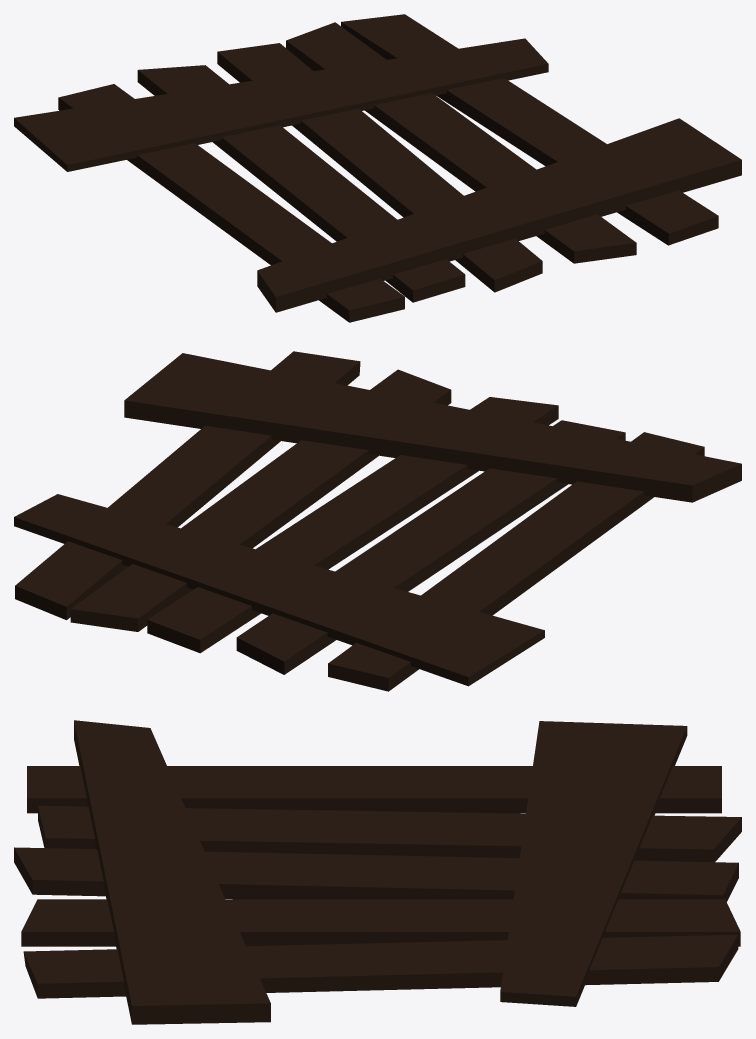
Rendered from SM_WindowBarricade.fbx.
3 views of the same model, one above another, from view 1: azimuth 30°, elevation 25°; view 2: azimuth 150°, elevation 25°; view 3: azimuth 270°, elevation 25° (orthographic). The views are drawn at different scales.
Visible parts, largest first — view 1: windowwood; view 2: windowwood; view 3: windowwood.
Boxes of the visible parts, left/top/right/bottom form: windowwood: left=14, top=14, right=741, bottom=322; windowwood: left=14, top=351, right=741, bottom=691; windowwood: left=14, top=720, right=741, bottom=1024.
Bounding box in the file's own units: 71.73 × 3.32 × 75.12.
